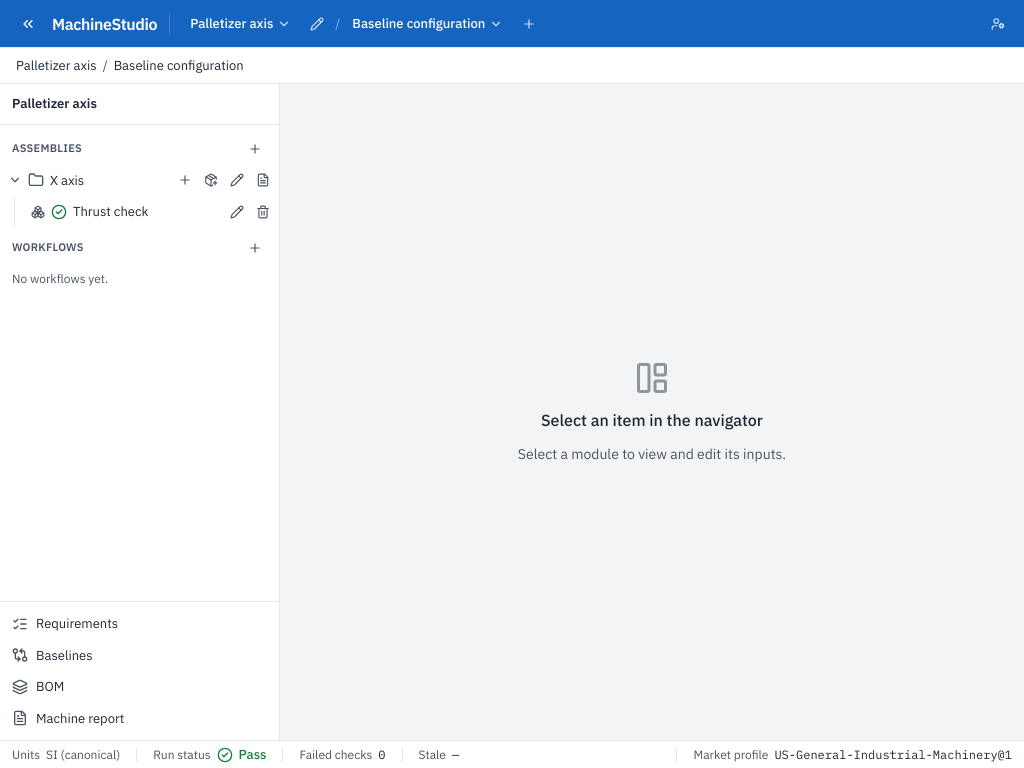
Scenario: WorkspaceShell › hides the navigator panel when the collapse toggle is clicked
Expected: the text "X axis" is shown, [50, 170, 84, 190]
Click the button named "Hide machine navigator" at (28,24), box [12, 8, 44, 40]
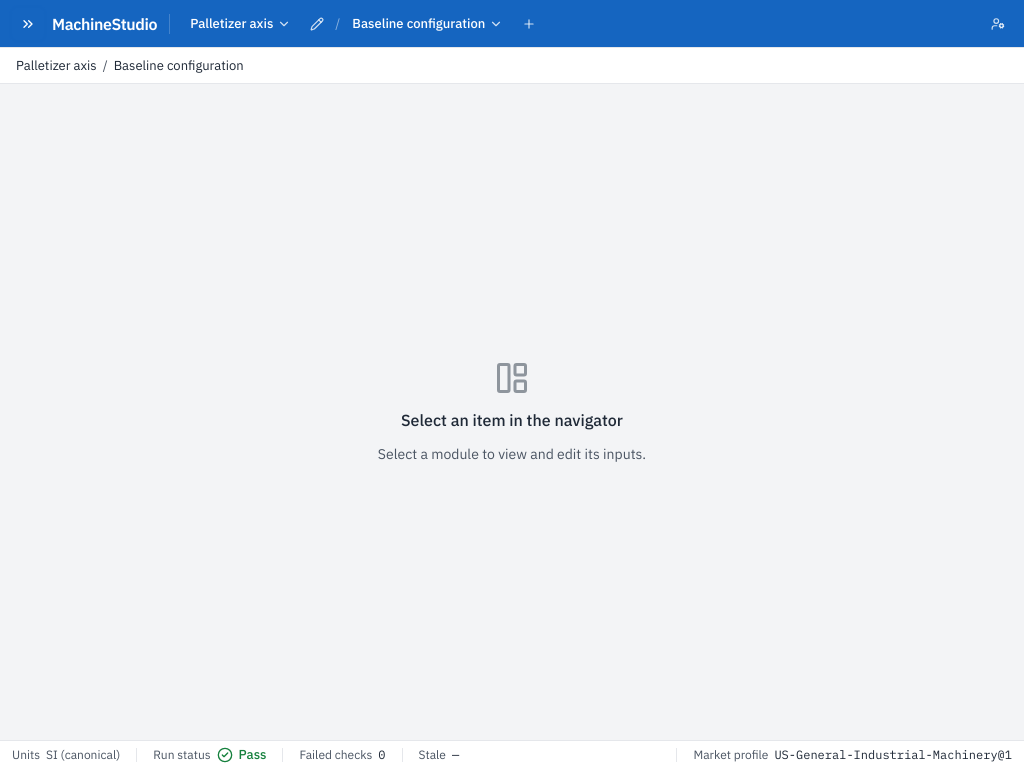
Expected: the button "X axis" is gone
